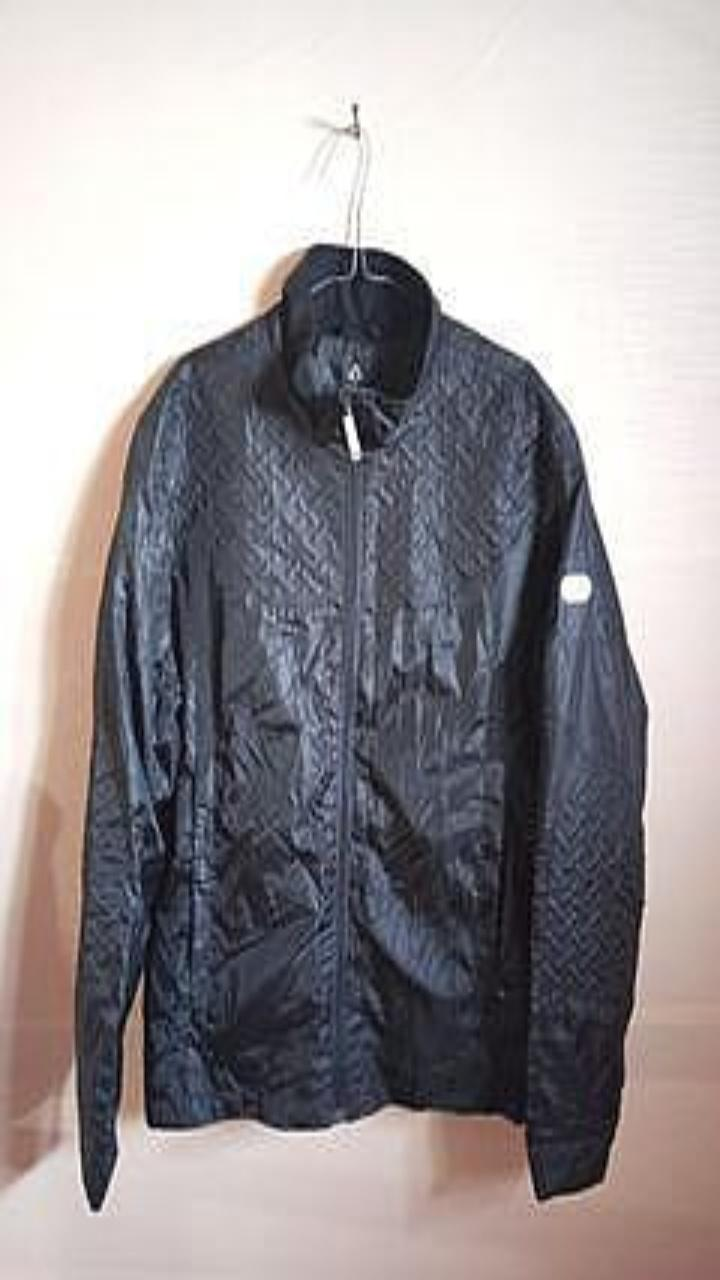Sports_Jacket: (75, 241, 647, 1209)
